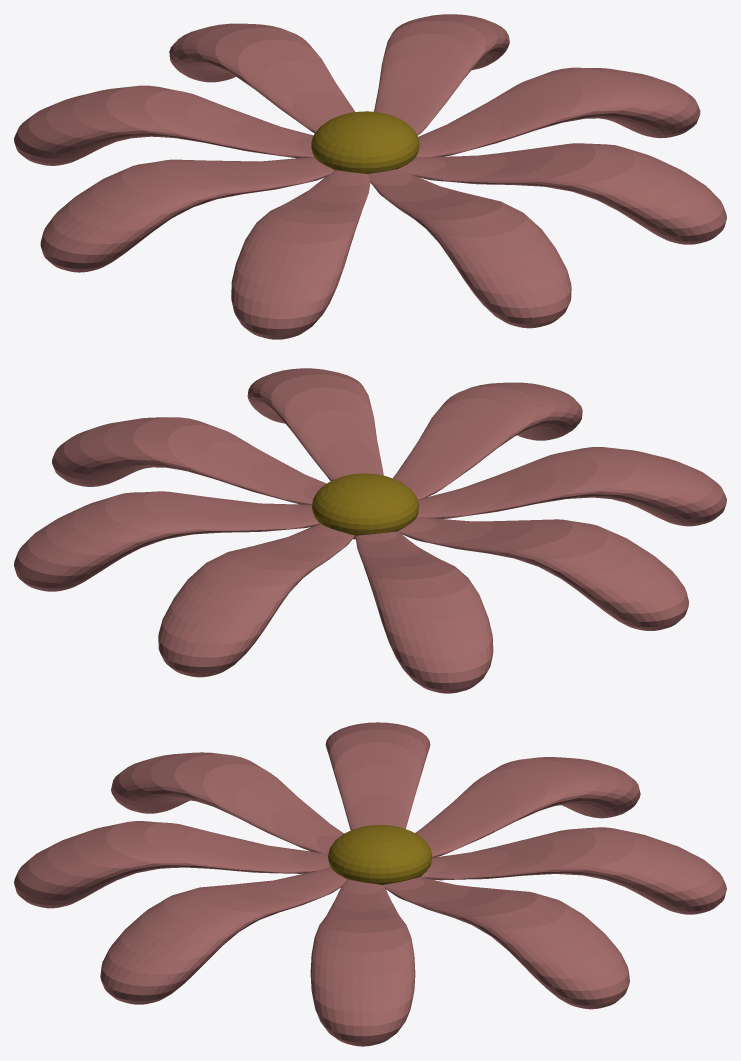
The model's file is dying_flower.obj.
3 renders of one model, top to bottom at view 1: azimuth 30°, elevation 25°; view 2: azimuth 150°, elevation 25°; view 3: azimuth 270°, elevation 25°, orthographic. The views are drawn at different scales.
Visible parts, largest first — view 1: Sphere.008_Sphere.012, Sphere.001_Sphere.002; view 2: Sphere.008_Sphere.012, Sphere.001_Sphere.002; view 3: Sphere.008_Sphere.012, Sphere.001_Sphere.002.
Boxes of the visible parts, x1,y1,x2,y2 form: Sphere.008_Sphere.012: (14,14,726,339); Sphere.001_Sphere.002: (311,111,419,173); Sphere.008_Sphere.012: (14,368,726,693); Sphere.001_Sphere.002: (312,473,419,539); Sphere.008_Sphere.012: (14,722,726,1046); Sphere.001_Sphere.002: (328,825,432,884).
Size of the model in its own units: 13.61 by 1.55 by 13.61.
